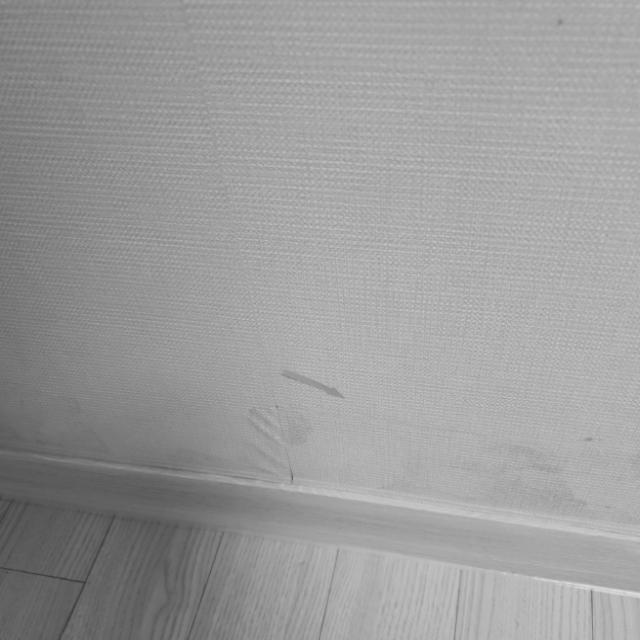stain marks: (355, 430, 633, 537), (0, 376, 238, 484), (549, 11, 586, 39)
